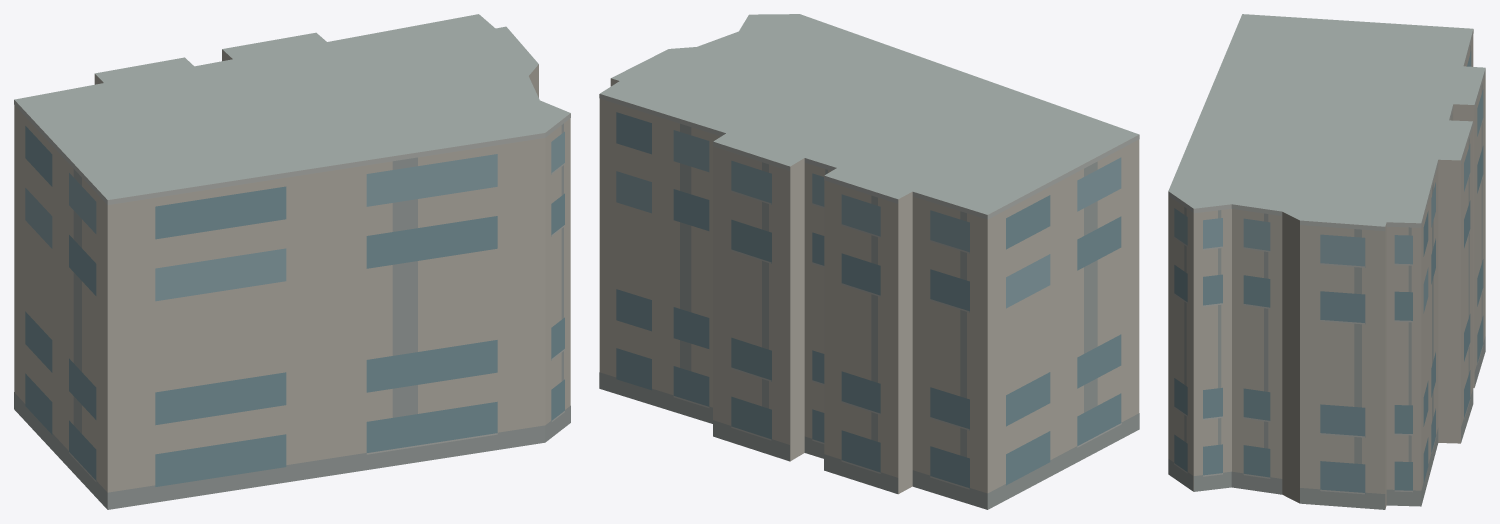
Rendered from survey-upis-32654833.glb.
The picture shows the model from 3 angles, left to right: view 1: azimuth 30°, elevation 25°; view 2: azimuth 150°, elevation 25°; view 3: azimuth 270°, elevation 25°; orthographic projection. The views are drawn at different scales.
Parts seen in each view (by area): view 1: survey-upis-32654833.tmp; view 2: survey-upis-32654833.tmp; view 3: survey-upis-32654833.tmp.
Part boxes in pixels (x1,y1,x2,y2): survey-upis-32654833.tmp: [14, 14, 570, 509]; survey-upis-32654833.tmp: [599, 14, 1139, 509]; survey-upis-32654833.tmp: [1168, 14, 1485, 509].
Bounding box in the file's own units: 24.58 × 15.25 × 15.5.
